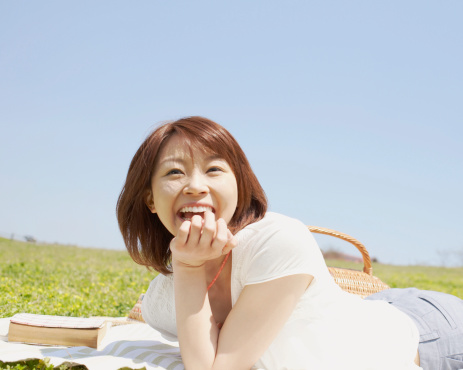deitado: (86, 98, 344, 368)
